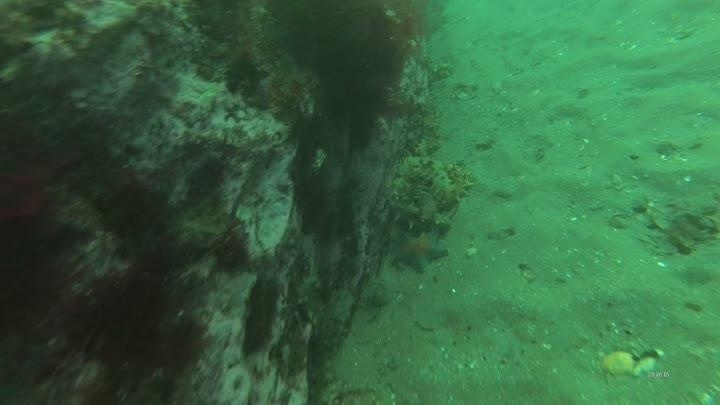holothurian: (384, 154, 440, 227), (425, 156, 476, 212), (410, 100, 444, 162)
starfish: (387, 225, 450, 276)
